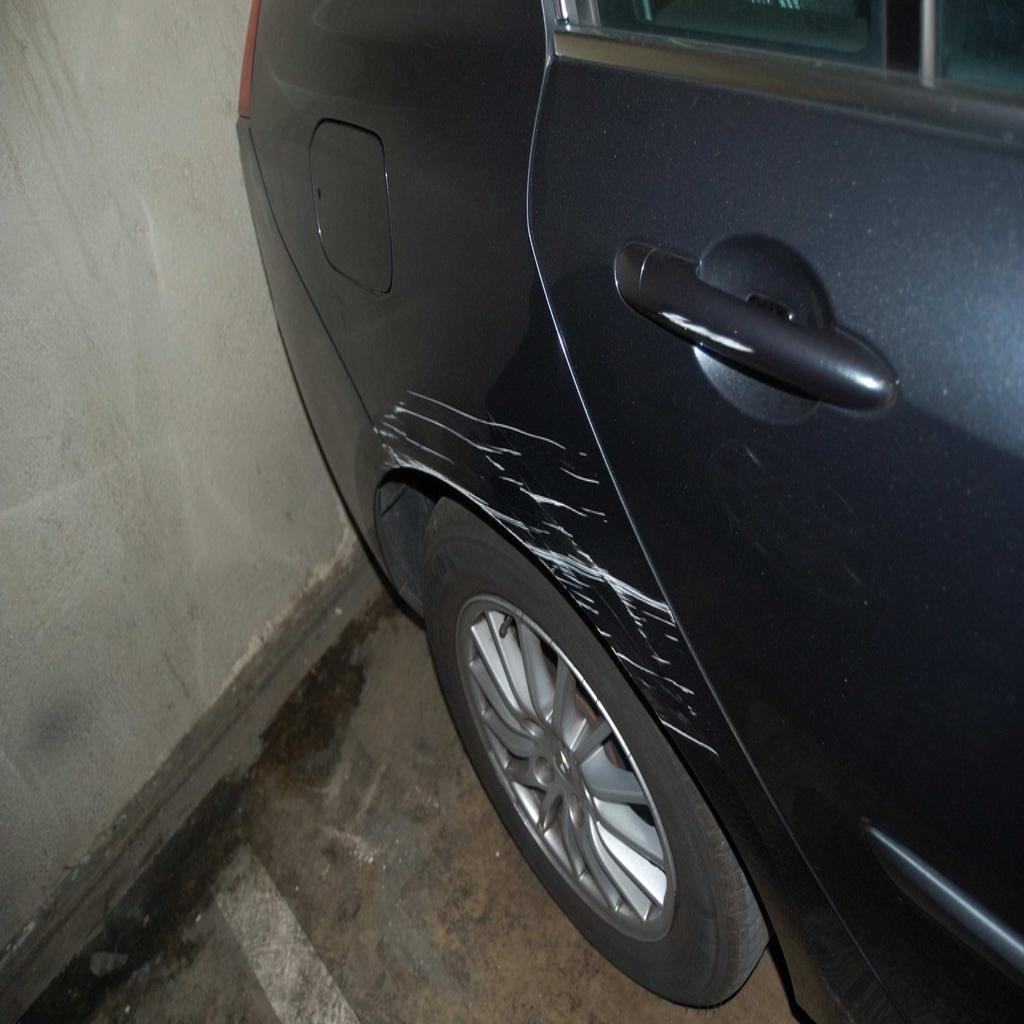Scratch: (373, 387, 738, 762), (657, 301, 759, 360)
